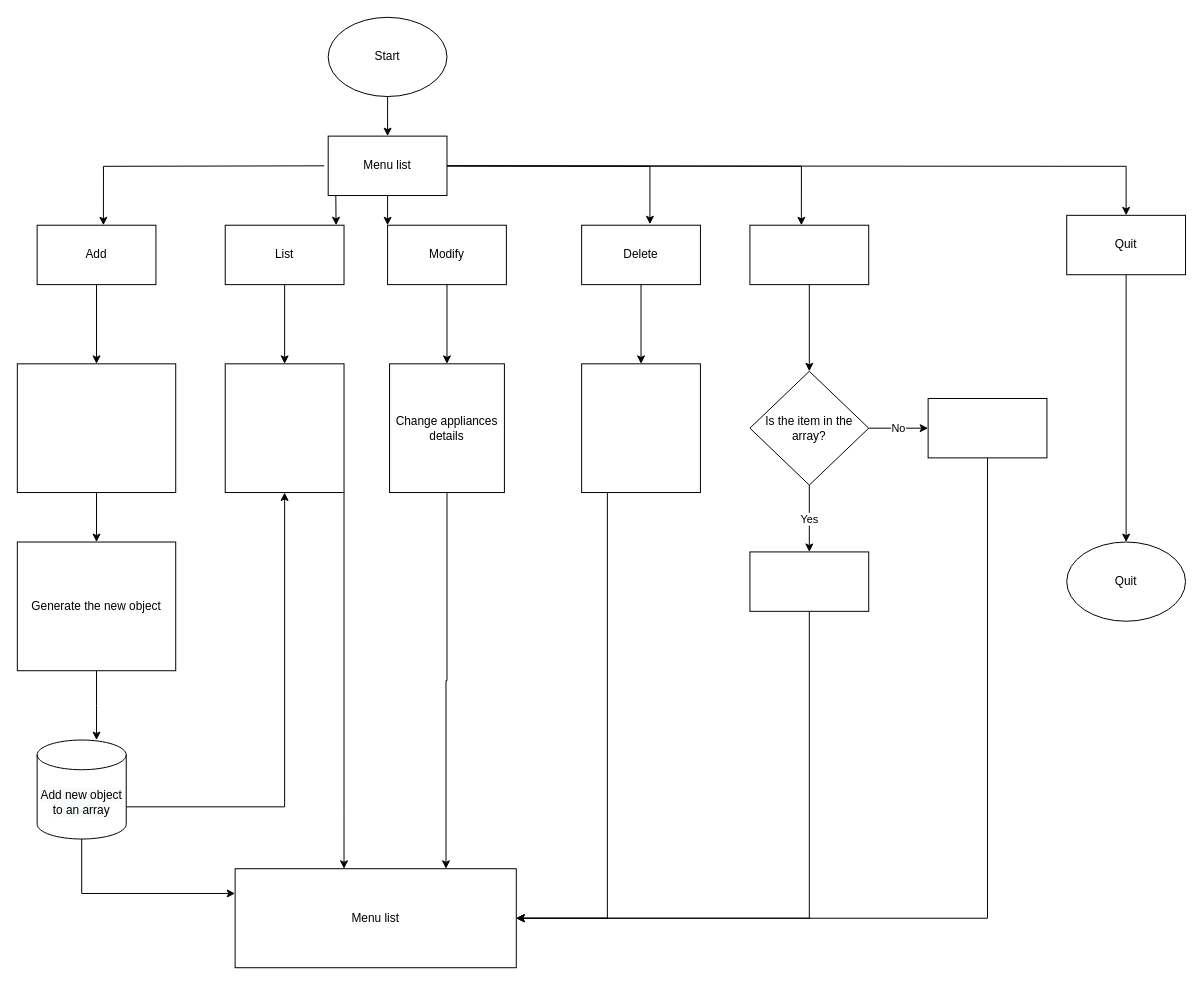
Image size: 1203x985. Some labels were removed from this diagram. The shapes that lost their labels are listed below. From the top down, each one's centre as x and y in pixels, then its label:
At [809,254]: "Find".
At [96,428]: "Input Appliance Detail: Name, Brand, Room".
At [284,428]: "Display Information about the appliances".
At [640,428]: "Delete appliances details".
At [987,427]: "Display message".
At [809,581]: "Display confirm message".
